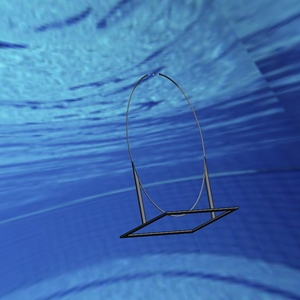circle: (117, 72, 237, 238)
